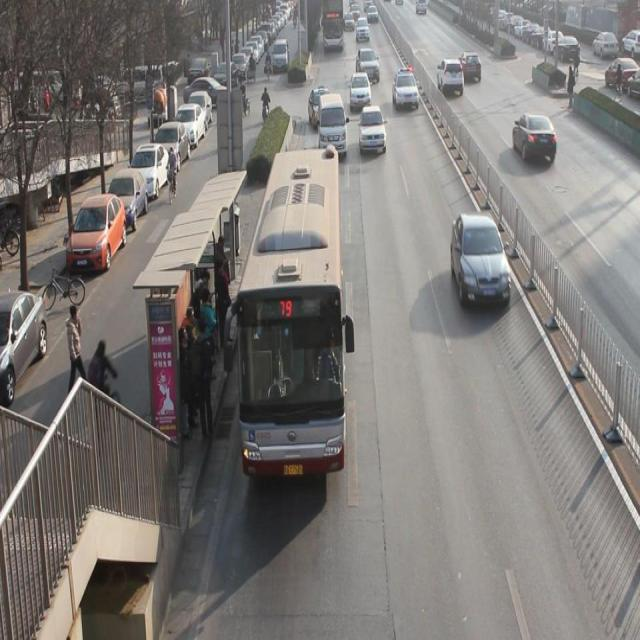car: (450, 222, 512, 310), (516, 112, 561, 169), (360, 108, 388, 152), (392, 68, 421, 110), (458, 48, 485, 88), (437, 60, 464, 94), (357, 48, 381, 85), (349, 75, 372, 112), (308, 88, 330, 125), (356, 17, 371, 41)
truck: (319, 96, 346, 156)
van: (235, 144, 343, 470), (321, 2, 344, 48)
